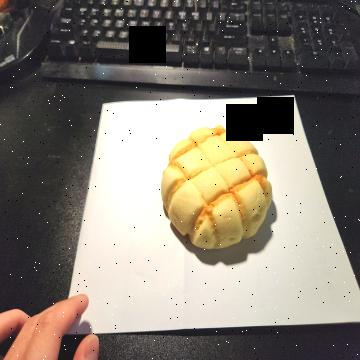melon_bread: (161, 122, 275, 252)
